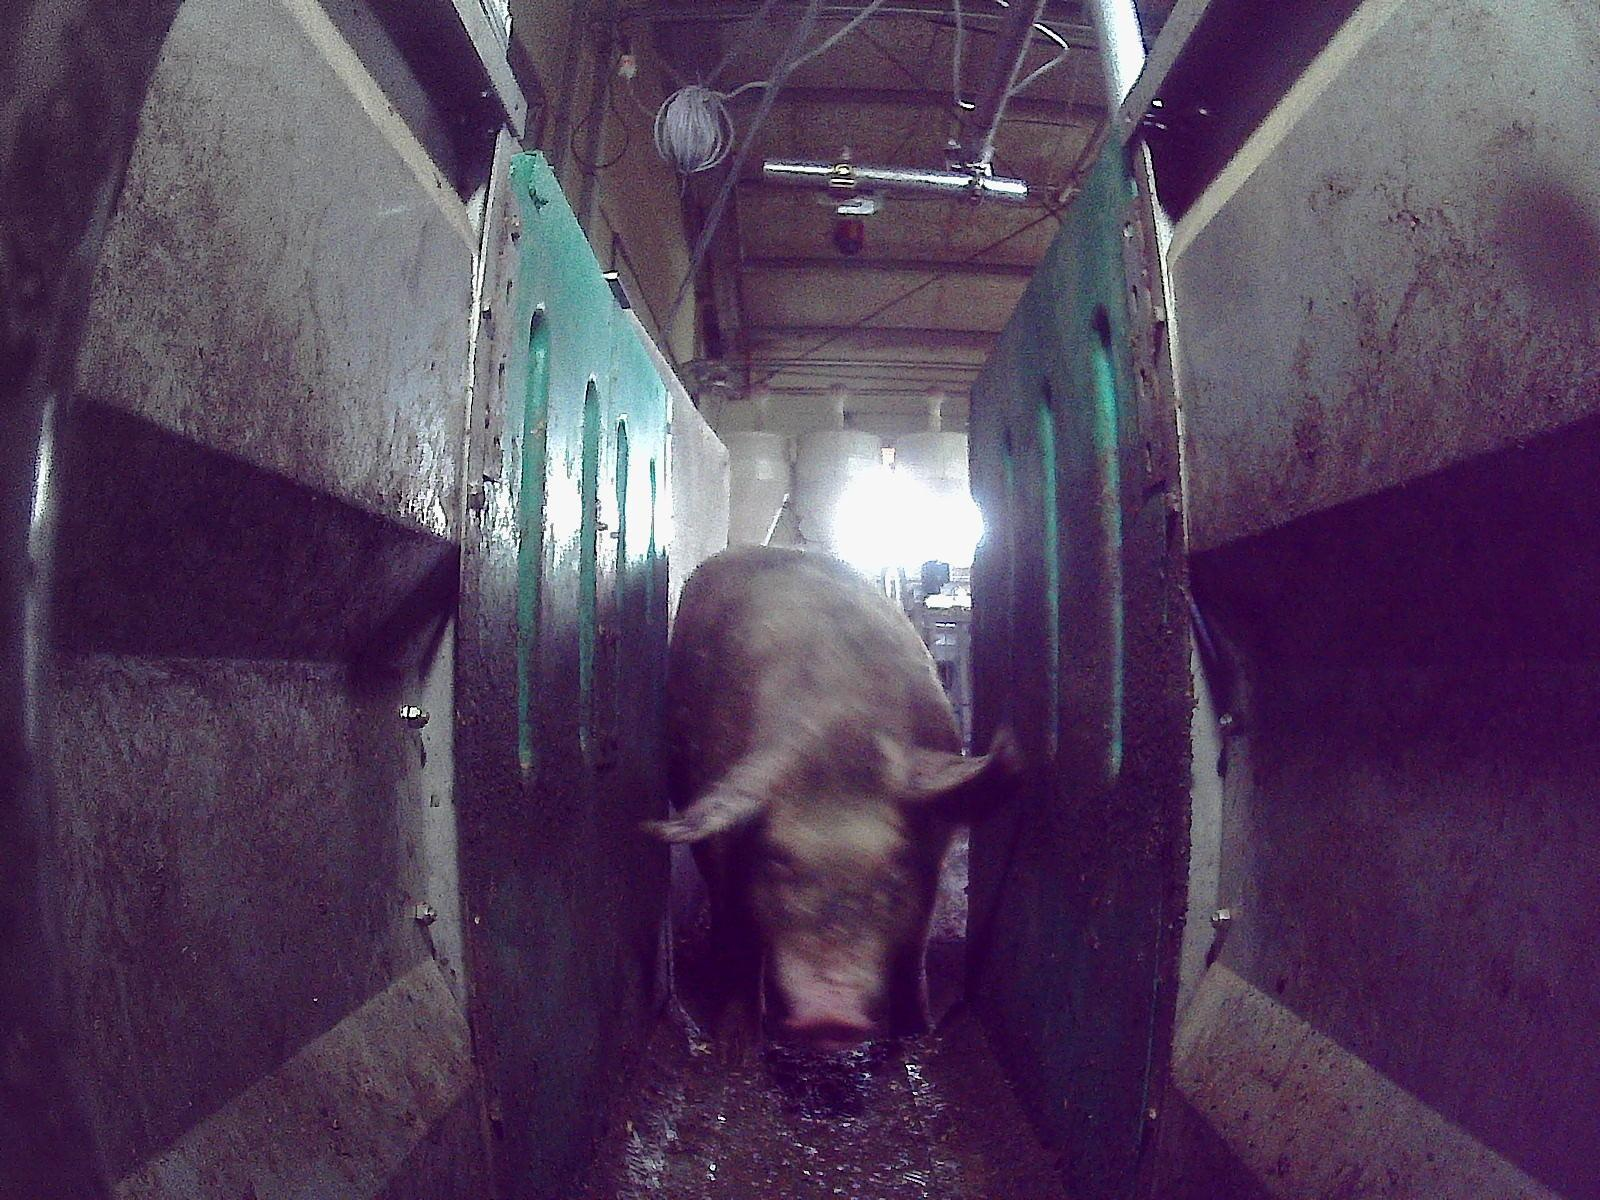Face: (748, 724, 937, 1044)
